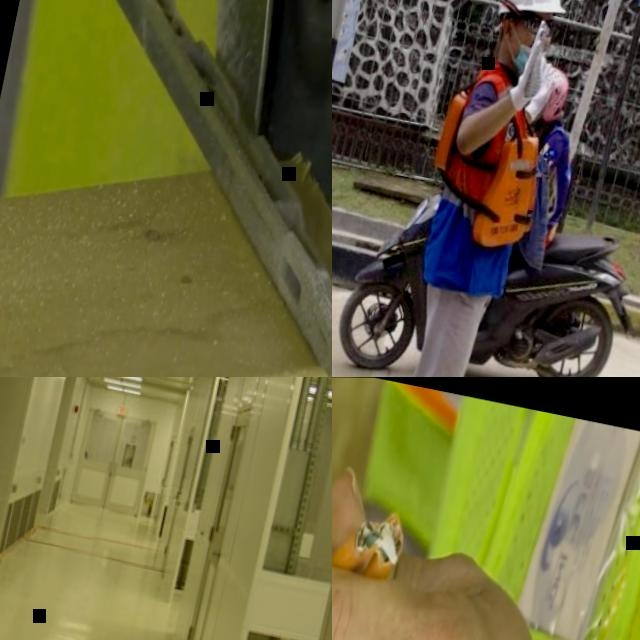Hardhat: (539, 61, 575, 122), (499, 0, 579, 23)
NO-Safety Vest: (527, 124, 577, 215)
Person: (366, 0, 585, 377), (332, 377, 640, 640), (519, 67, 593, 238)
Safety Vest: (332, 378, 640, 640), (424, 62, 562, 248)
